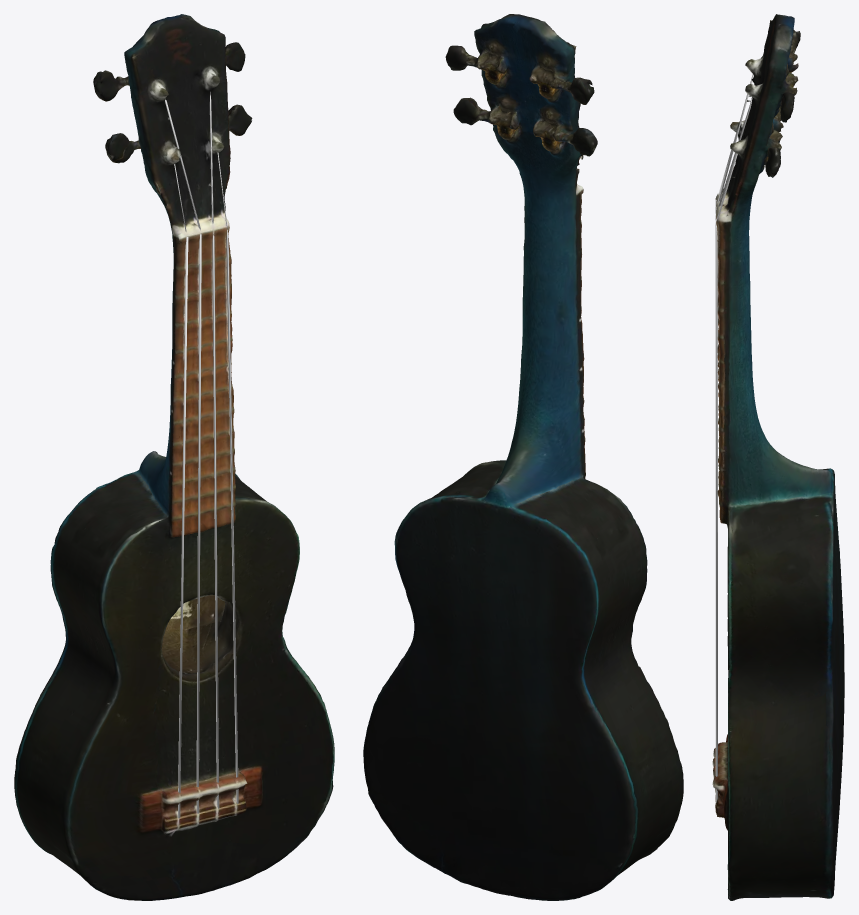
The model's file is sf-ukulele.glb.
The picture shows the model from 3 angles, left to right: view 1: azimuth 30°, elevation 25°; view 2: azimuth 150°, elevation 25°; view 3: azimuth 270°, elevation 25°; orthographic projection.
Visible parts, largest first — view 1: Object_7, Object_2; view 2: Object_7; view 3: Object_7, Object_2.
Part boxes in pixels (box(x1,y1,x2,y2)): Object_7: box(14, 14, 334, 900); Object_2: box(165, 92, 238, 818); Object_7: box(363, 14, 683, 900); Object_7: box(712, 14, 844, 900); Object_2: box(715, 74, 753, 802).
Size of the model in its own units: 0.1818 by 0.55 by 0.077.
Materials: 2 (1 with a texture image).
